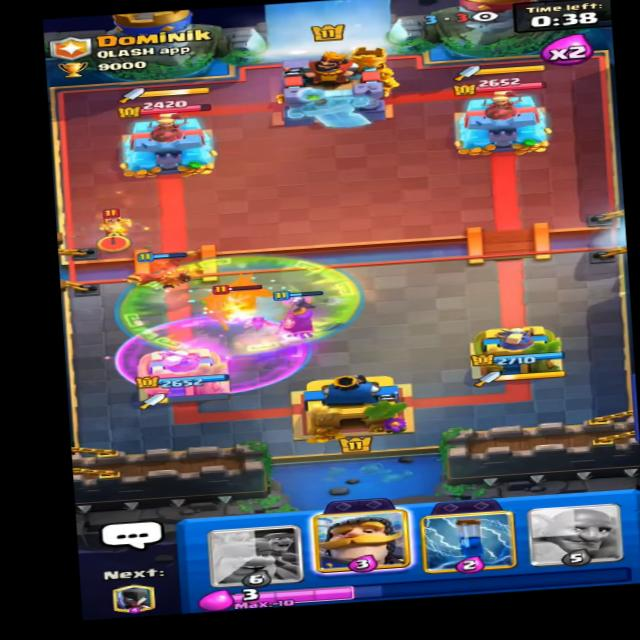pekka: (180, 271, 289, 326)
wizard: (87, 204, 147, 244)
